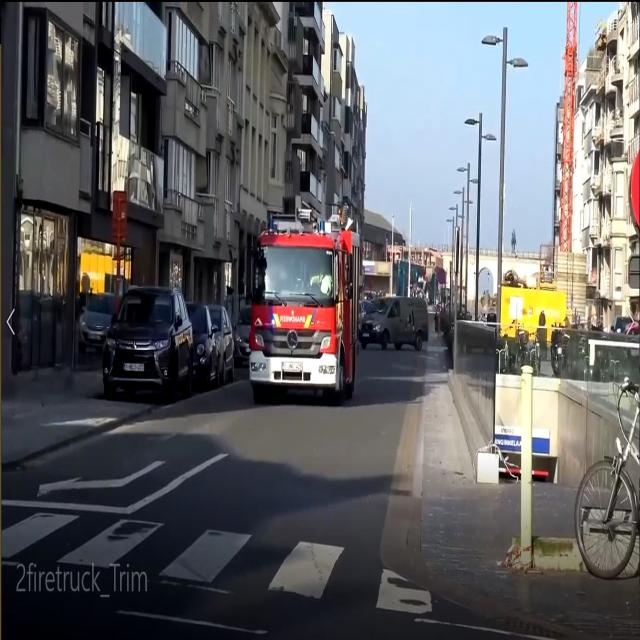emergency: (244, 209, 362, 417)
